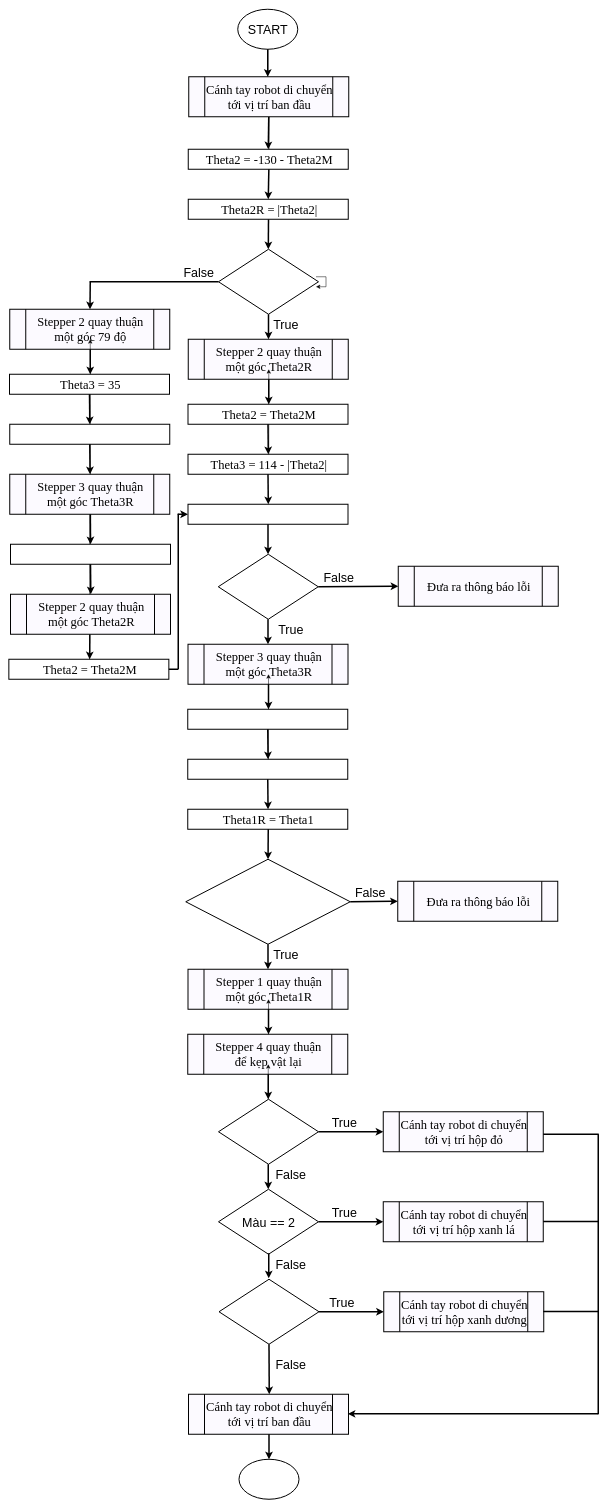
The diagram is 612 pixels wide and 1508 high, and some of its shapes have lost their labels. Each missing label, with the centre of its shape:
END: [268,1479]
Màu == 1: [268,1131]
Màu == 3: [268,1311]
Theta1 = Theta1M: [267,769]
Theta1R >= 0 AND Theta1R <= 90: [267,901]
Theta2R <= 79: [268,281]
Theta2R = Theta2R - 79: [90,554]
Theta3 = Theta3M: [267,719]
Theta3R = Theta2R - 79: [89,434]
Theta3R = Theta3M - Theta3: [267,514]
Theta3R >= 0: [268,587]
